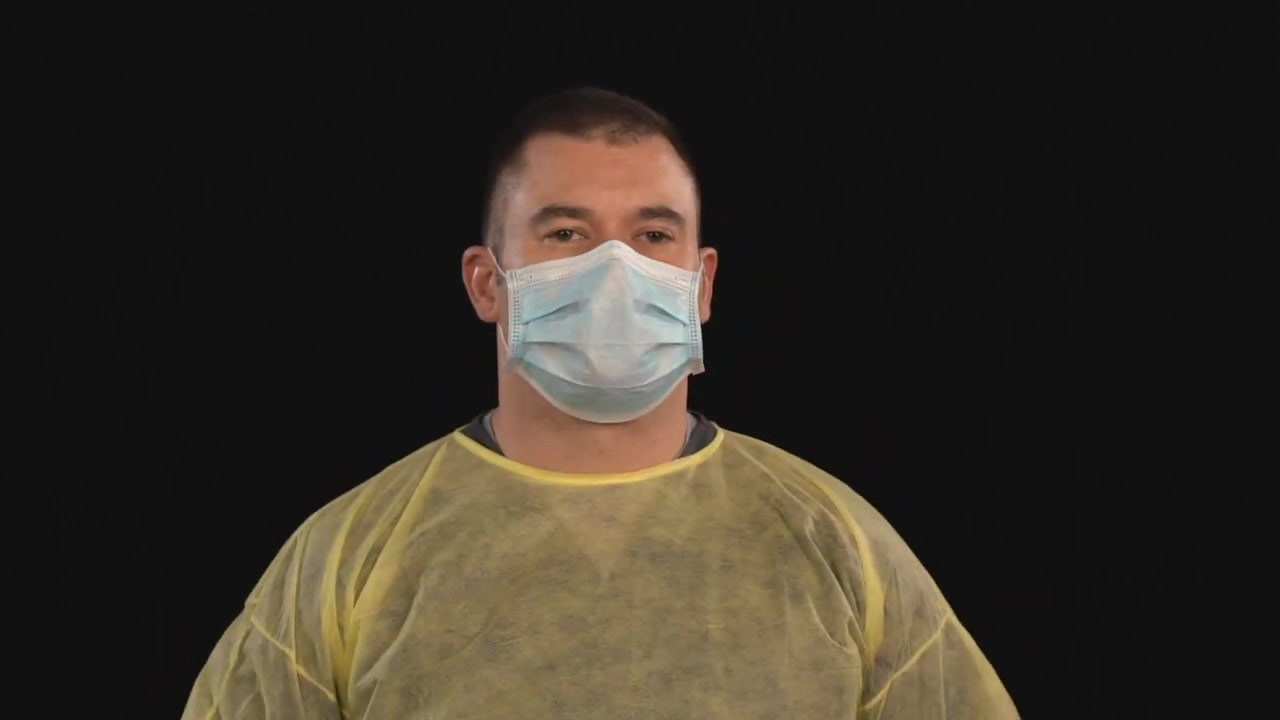Coverall: (240, 433, 944, 720)
with_mask: (493, 227, 716, 418)
